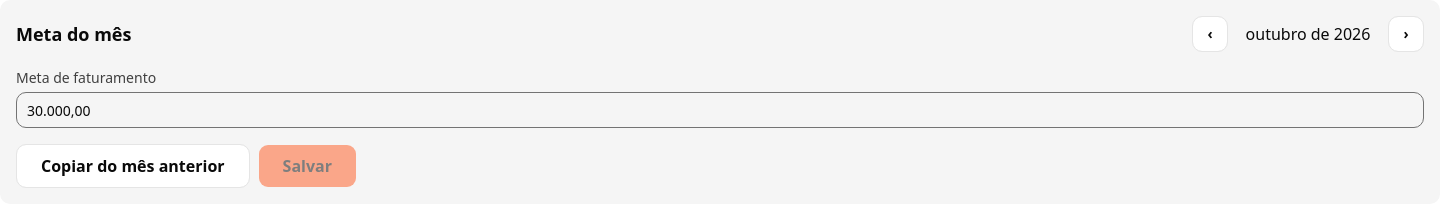
Scenario: SecaoMeta › copiar do mês anterior pega o mais recente salvo, não o mês vazio imediatamente anterior
Click the button named "próximo mês" at (1406, 34), box left=1388, top=16, right=1424, bottom=52
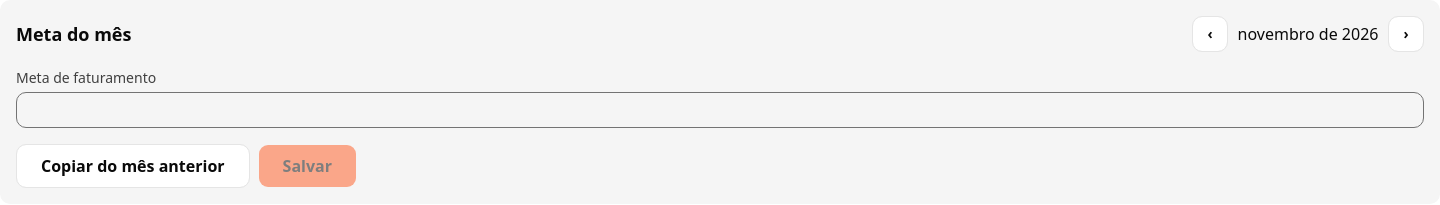
Click the button named "próximo mês" at (1406, 34), box left=1388, top=16, right=1424, bottom=52
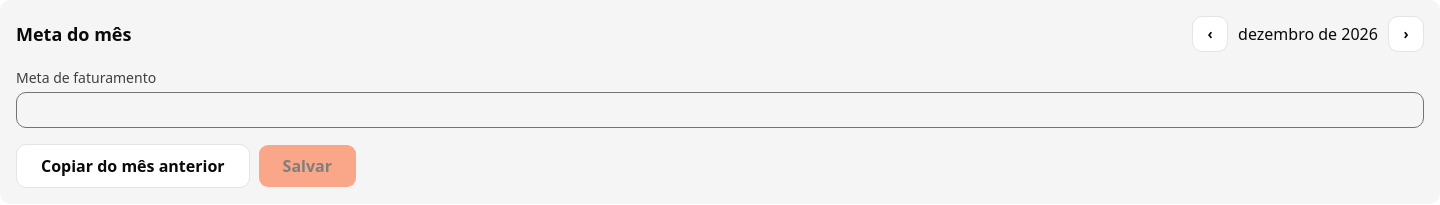
Click the button "Copiar do mês anterior" at (133, 166), box left=16, top=144, right=250, bottom=188
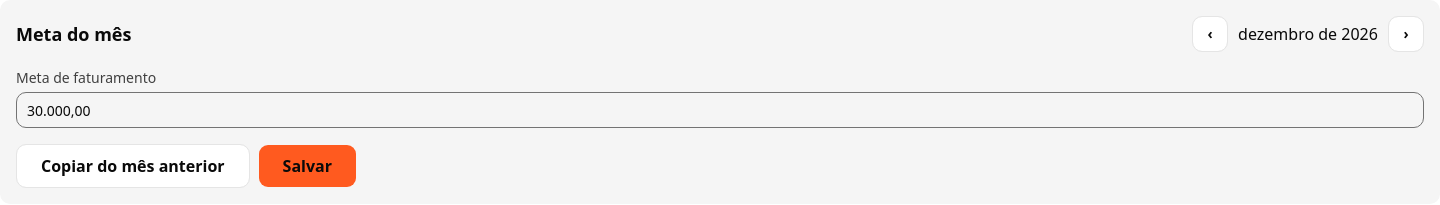
Expected: the field labelled "Meta de faturamento" holds "30.000,00", left=16, top=92, right=1424, bottom=128
